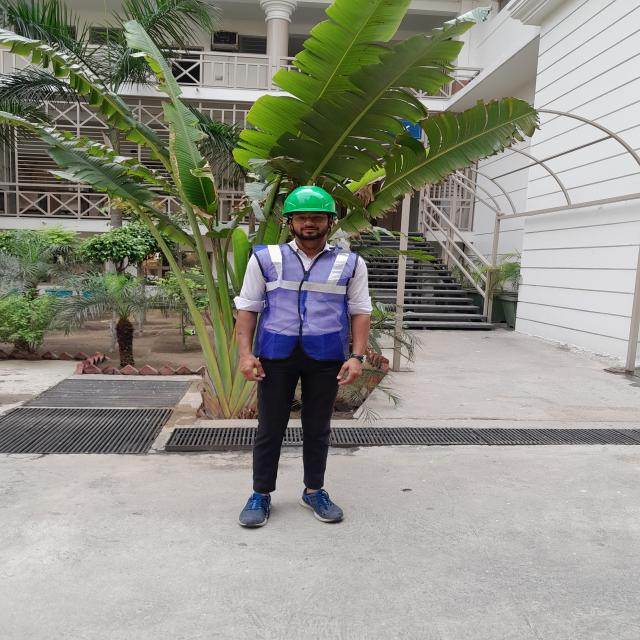safe: (237, 186, 371, 524)
